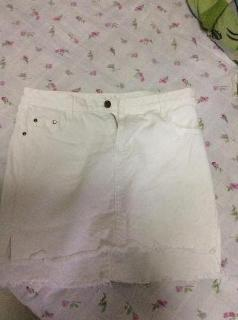skirt: (0, 87, 222, 289)
